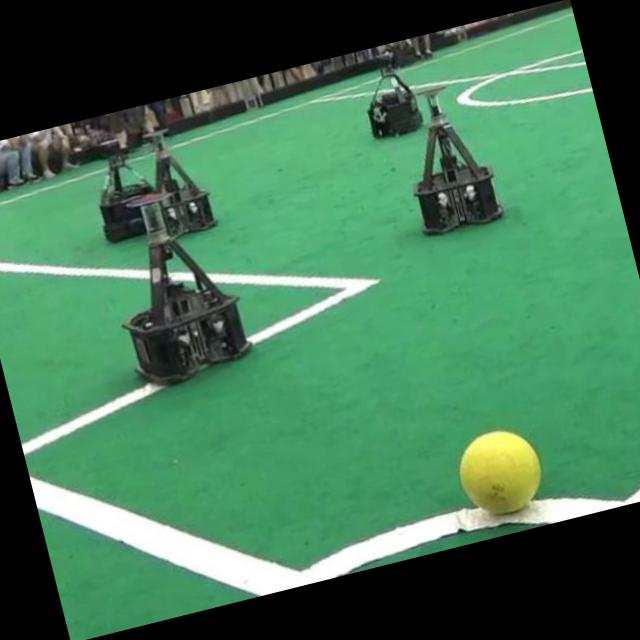ball: (459, 430, 540, 513)
robot: (123, 192, 251, 384), (414, 87, 503, 233), (148, 132, 216, 236), (99, 139, 154, 239), (367, 52, 421, 136)
